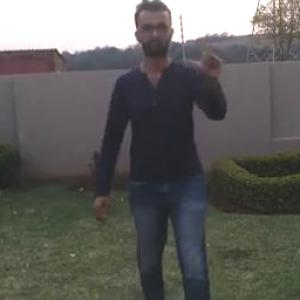land_hand: (178, 32, 224, 86)
